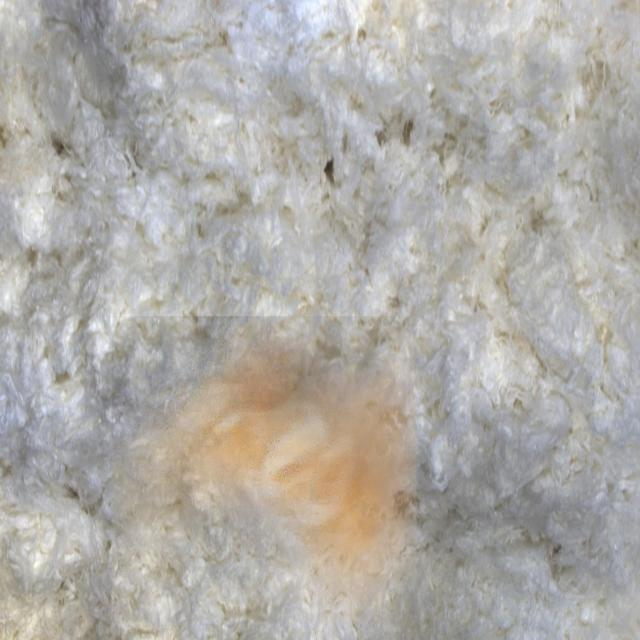dust: (112, 316, 417, 625)
